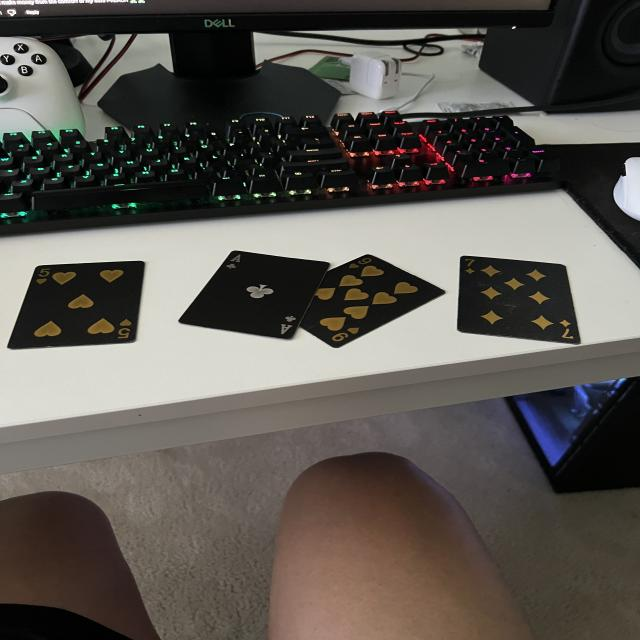5H: (118, 319, 132, 339), (36, 267, 51, 284)
7D: (558, 319, 577, 341), (464, 256, 478, 276)
9H: (326, 324, 362, 345), (344, 255, 374, 270)
AC: (276, 314, 296, 337), (223, 252, 243, 270)
